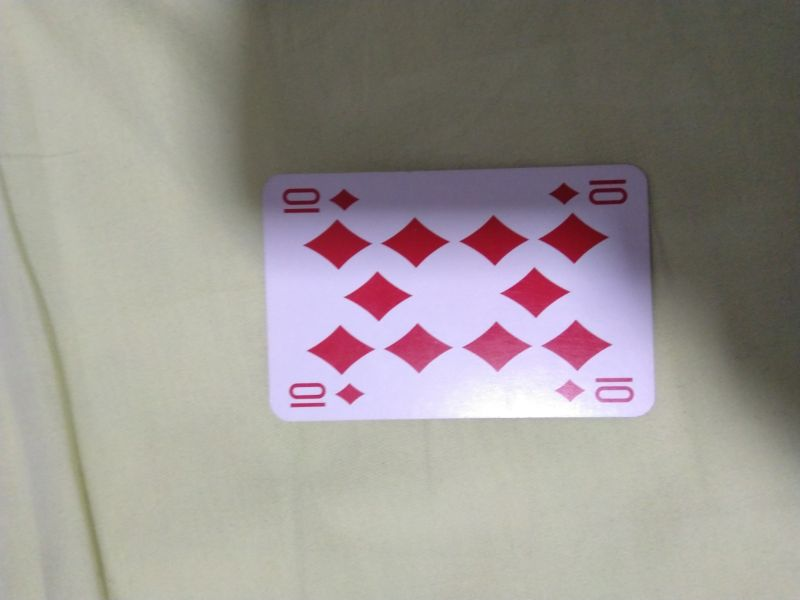Td: (282, 376, 372, 414), (271, 181, 364, 217), (544, 174, 630, 210), (553, 372, 639, 406)
